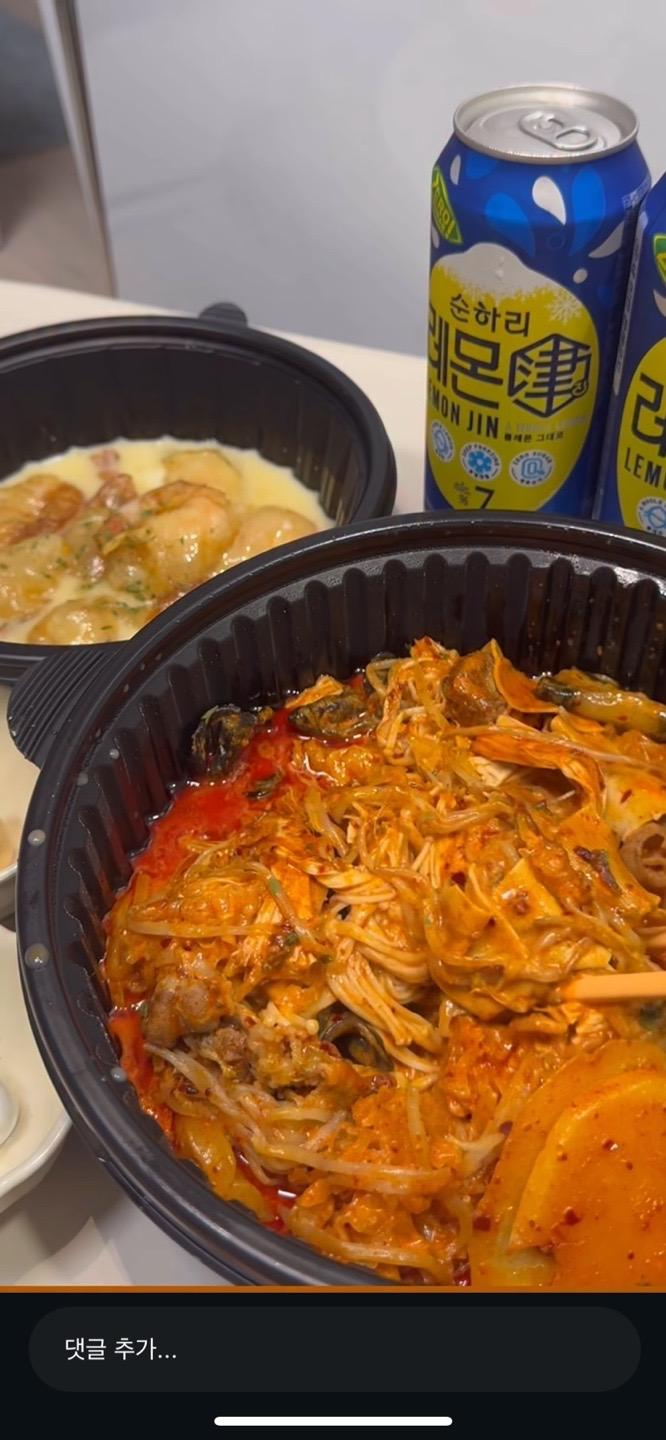Bottle: (426, 85, 649, 516), (594, 174, 665, 537)
Lunch Box: (10, 517, 665, 1290), (0, 317, 396, 679)
